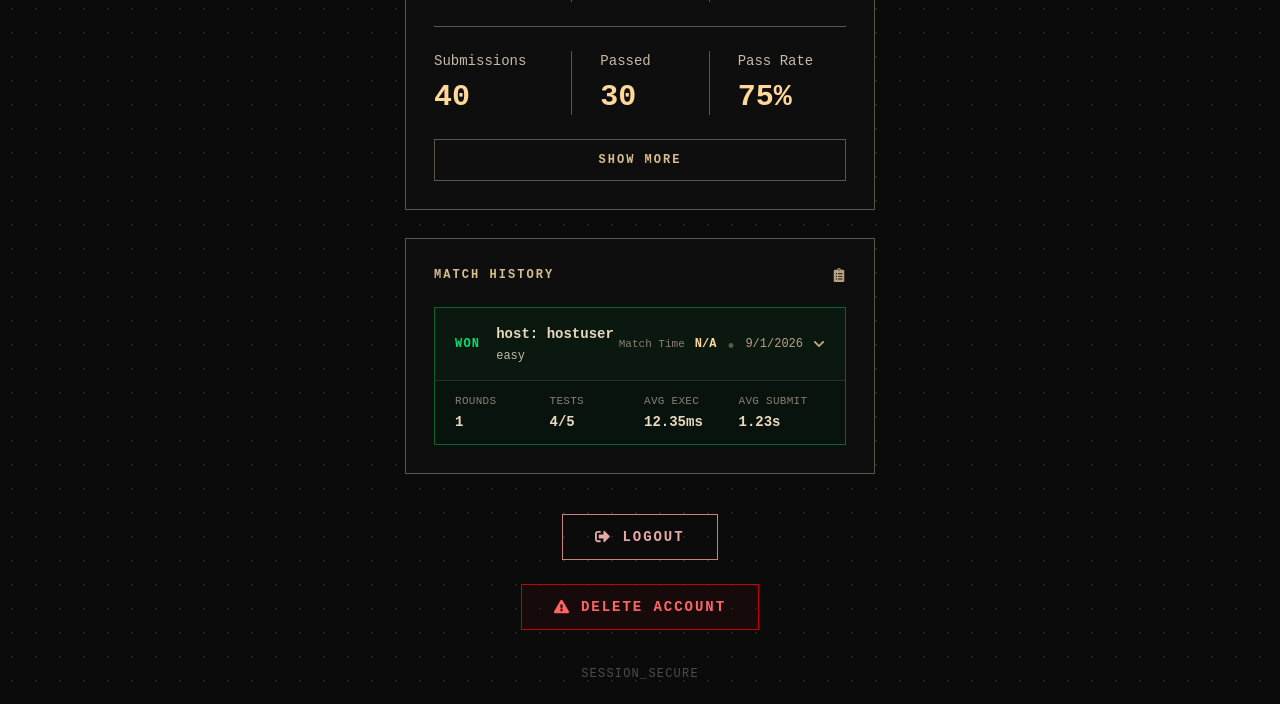
Scenario: Profile FIXED: submission time fields no longer crash on expand › renders 'N/A' instead of crashing when a submission has a null executionTime
(page scrolled)
Click the button "WON host: hostuser easy Match Time N/A • 9/1/2026". click: point(640, 344)
box: [435,308,845,380]
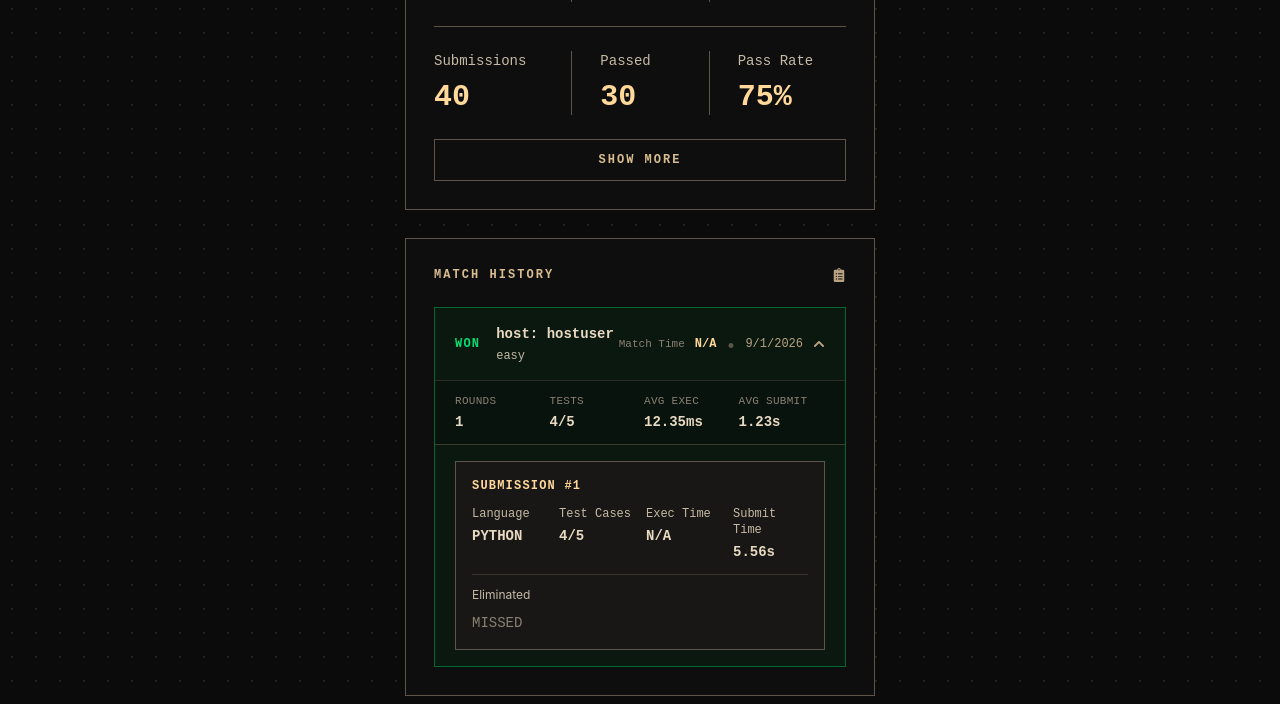
Expected: the text "N/A" below "Exec Time" is shown, [646,528,671,544]
